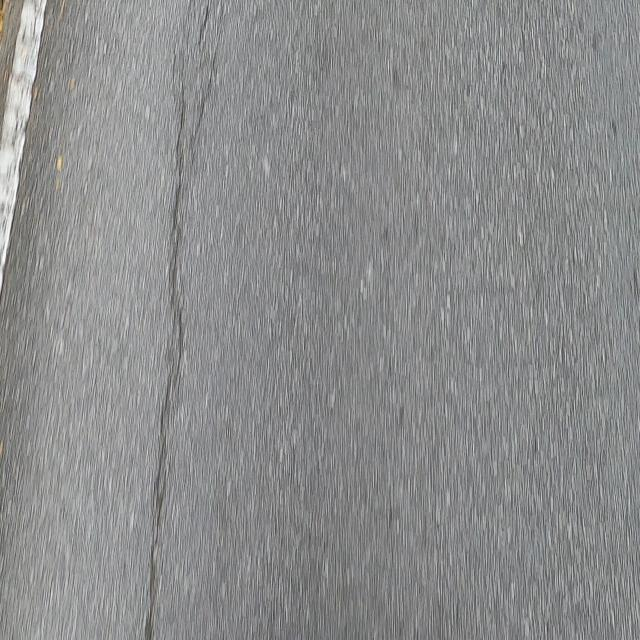Retak-Memanjang: (141, 84, 190, 631)
